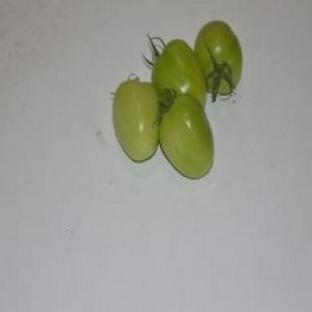Tomato: (161, 95, 214, 179), (150, 38, 206, 107), (194, 21, 242, 101), (113, 80, 158, 161)
